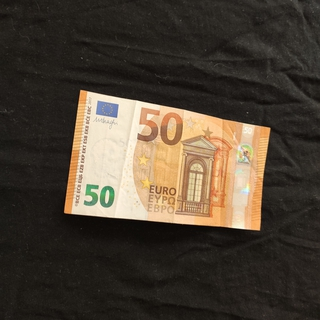50EUROFront: (63, 88, 273, 232)
